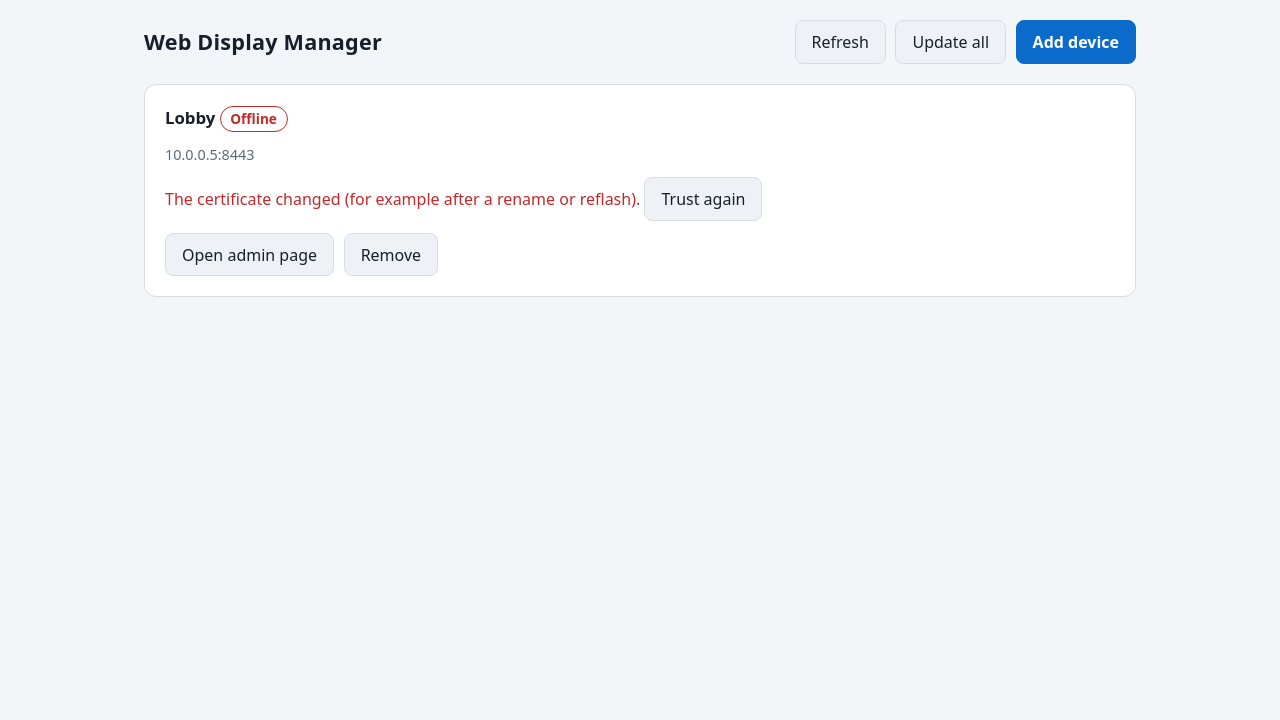
Test case: offers to trust a changed certificate
Click the button "Trust again" at (703, 199), box x1=644 y1=177 x2=762 y2=221
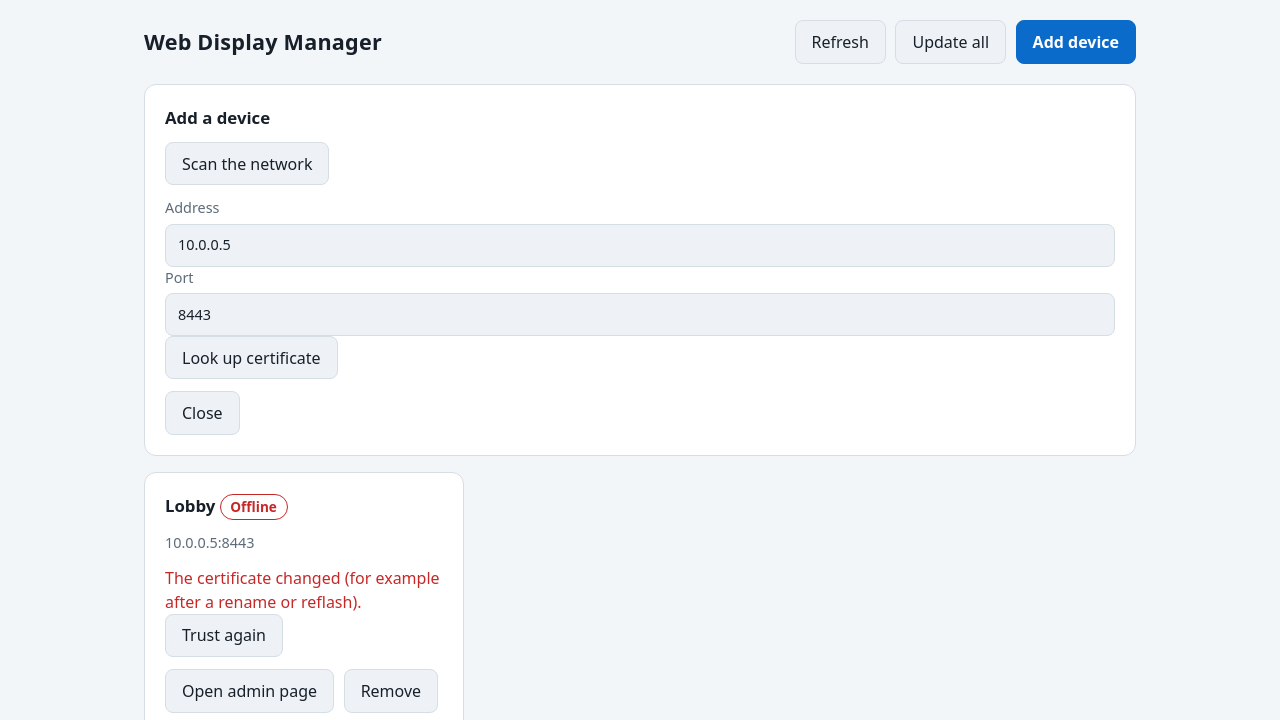
expect the heading "Add a device" is shown: met, box x1=165 y1=106 x2=270 y2=129
